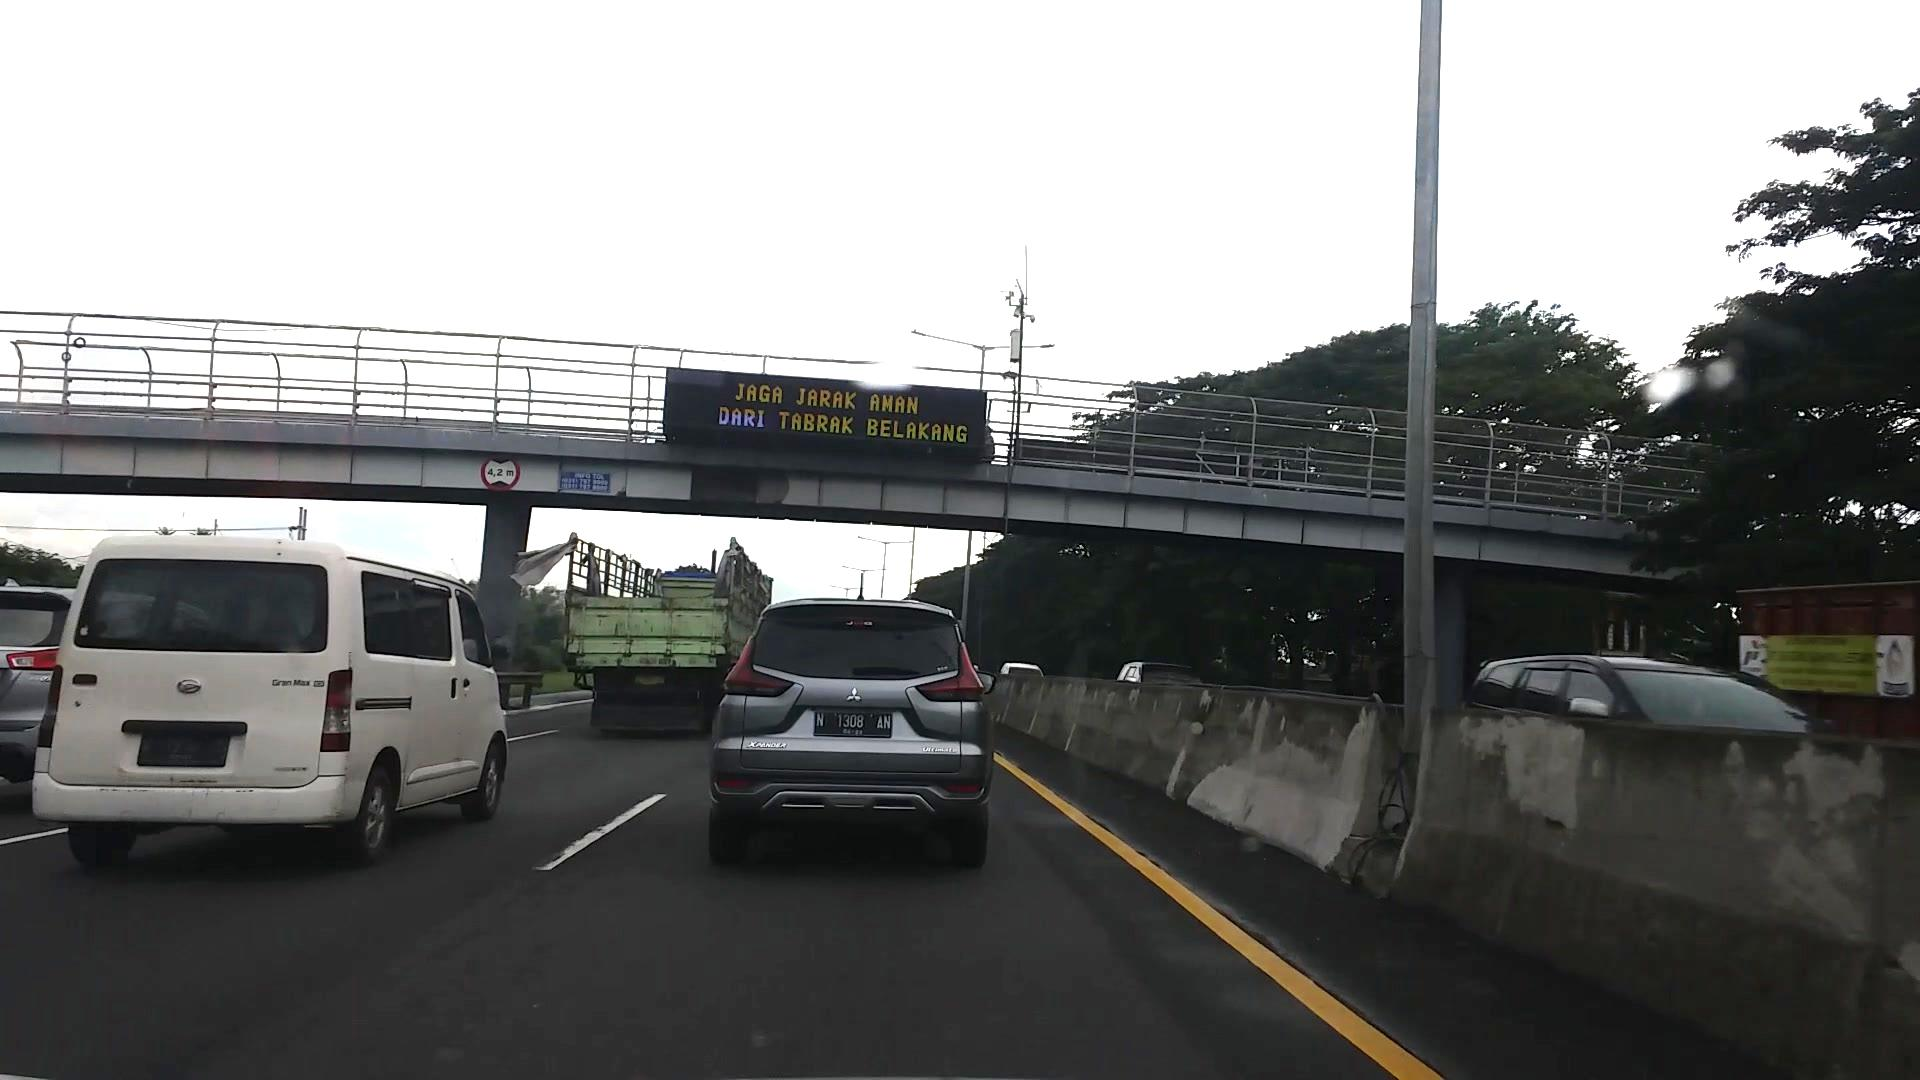plate_positive: (814, 709, 893, 738)
